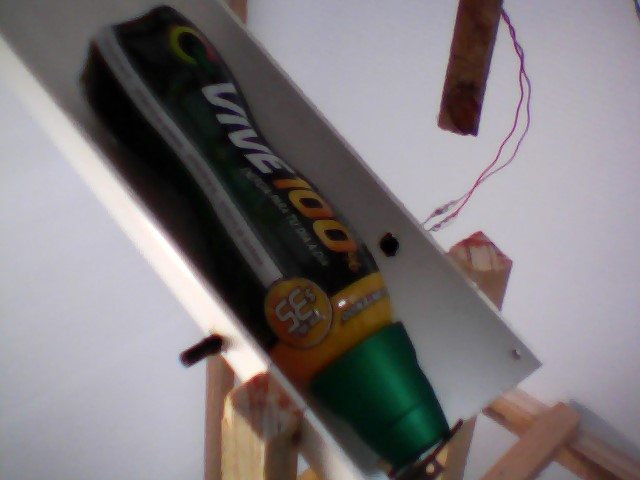plastico: (72, 6, 459, 472)
